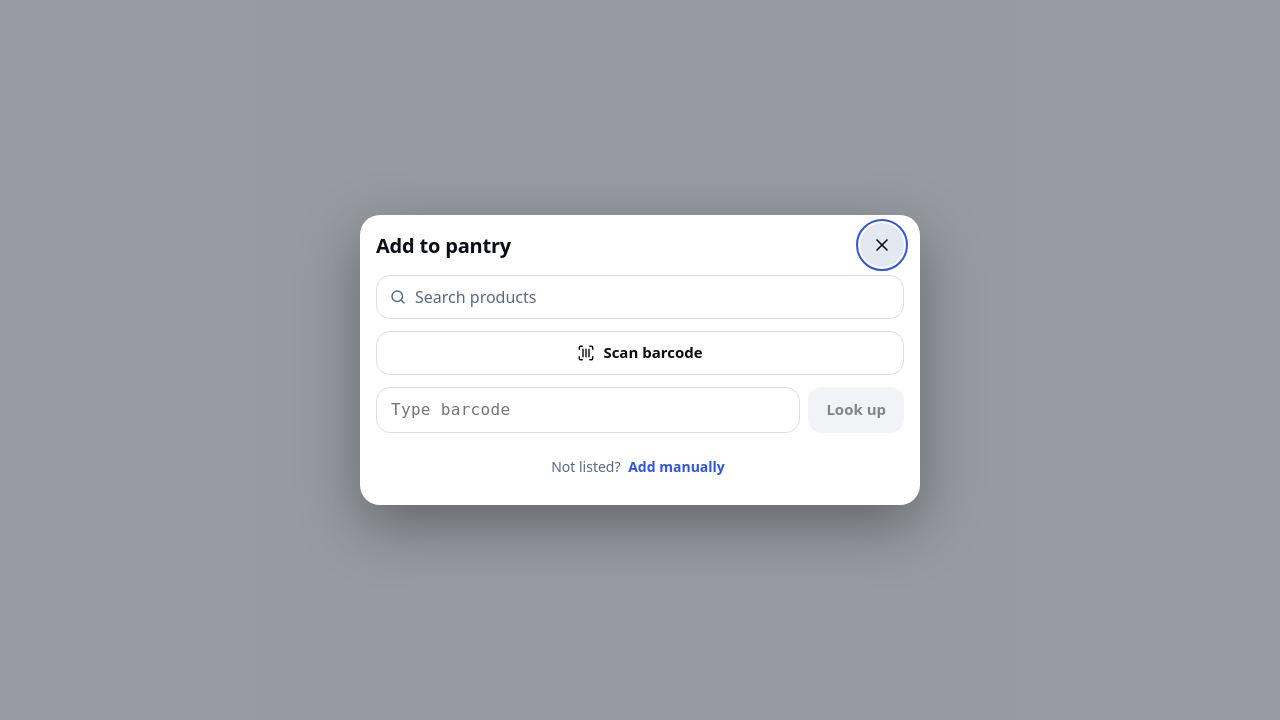
search waits 300 ms after typing and needs 2 or more characters
Type "f" into the search field named "Search PosoKanei".
click(653, 297); type("f")  # box [415,276,891,318]
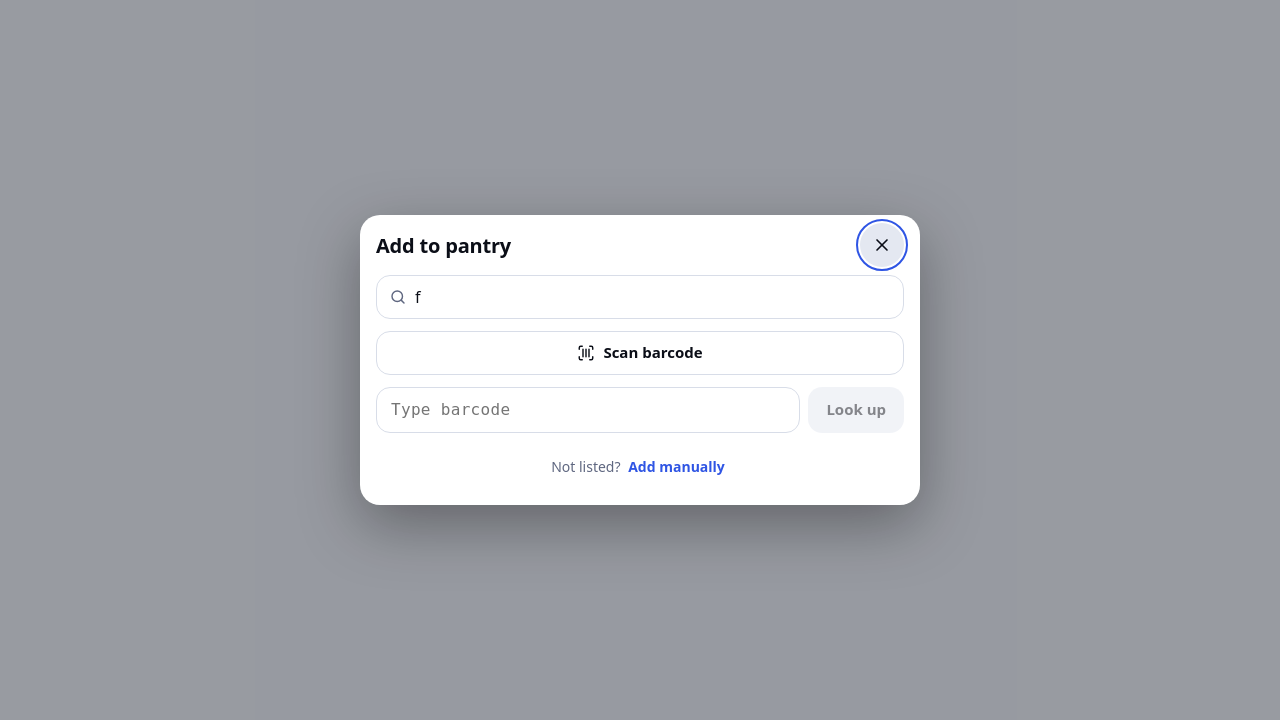
Replace the text in the search field named "Search PosoKanei" with "fe" at point(653, 297), box [415,276,891,318]
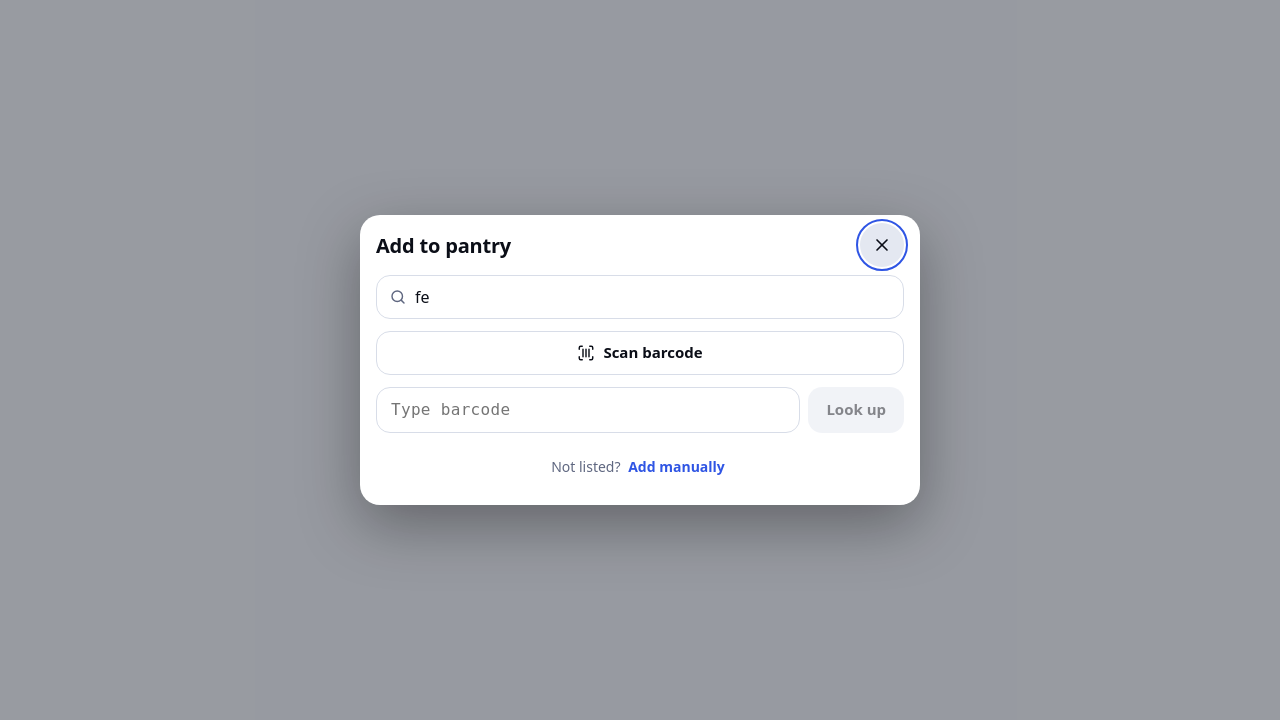
Replace the text in the search field named "Search PosoKanei" with "fet" at point(653, 297), box [415,276,891,318]
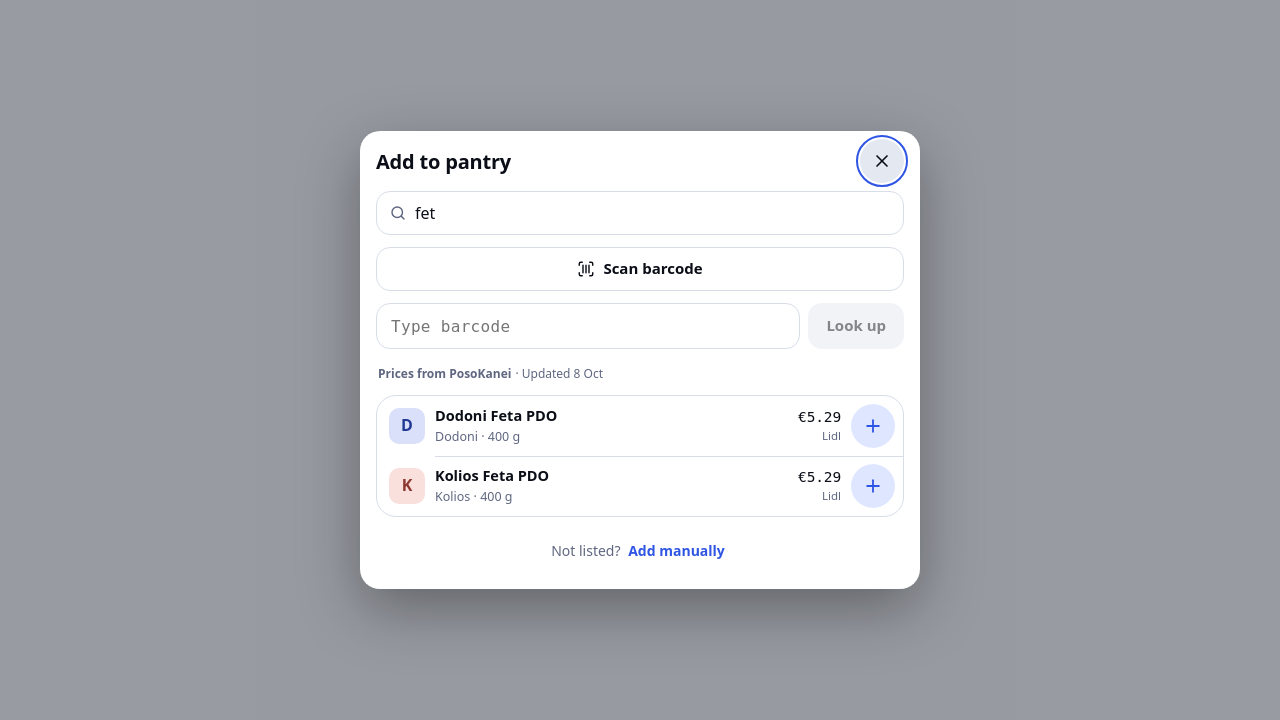
Expected: the list item "Dodoni Feta PDO" shows "Dodoni · 400 g", [435,428,520,445]
Expected: the list item "Dodoni Feta PDO" shows "€5.29", [798,409,841,425]
Expected: the list item "Dodoni Feta PDO" shows "Lidl", [822,428,841,443]
